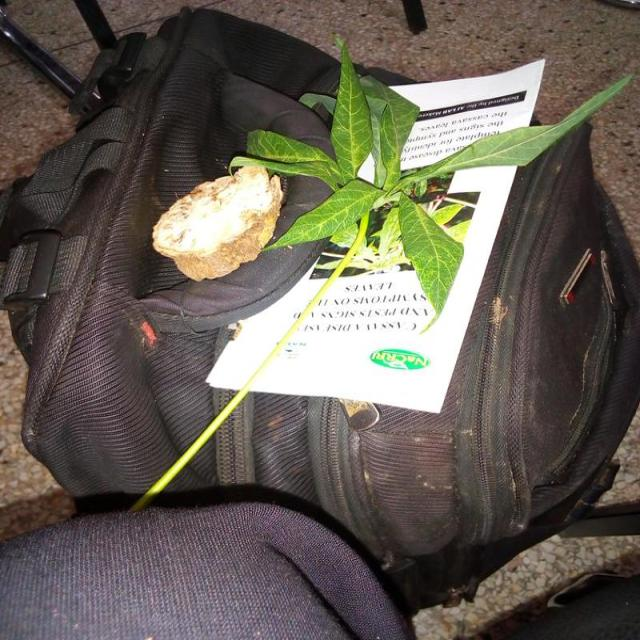cassava leaf: (226, 33, 634, 332), (150, 162, 286, 282), (397, 190, 464, 332)
